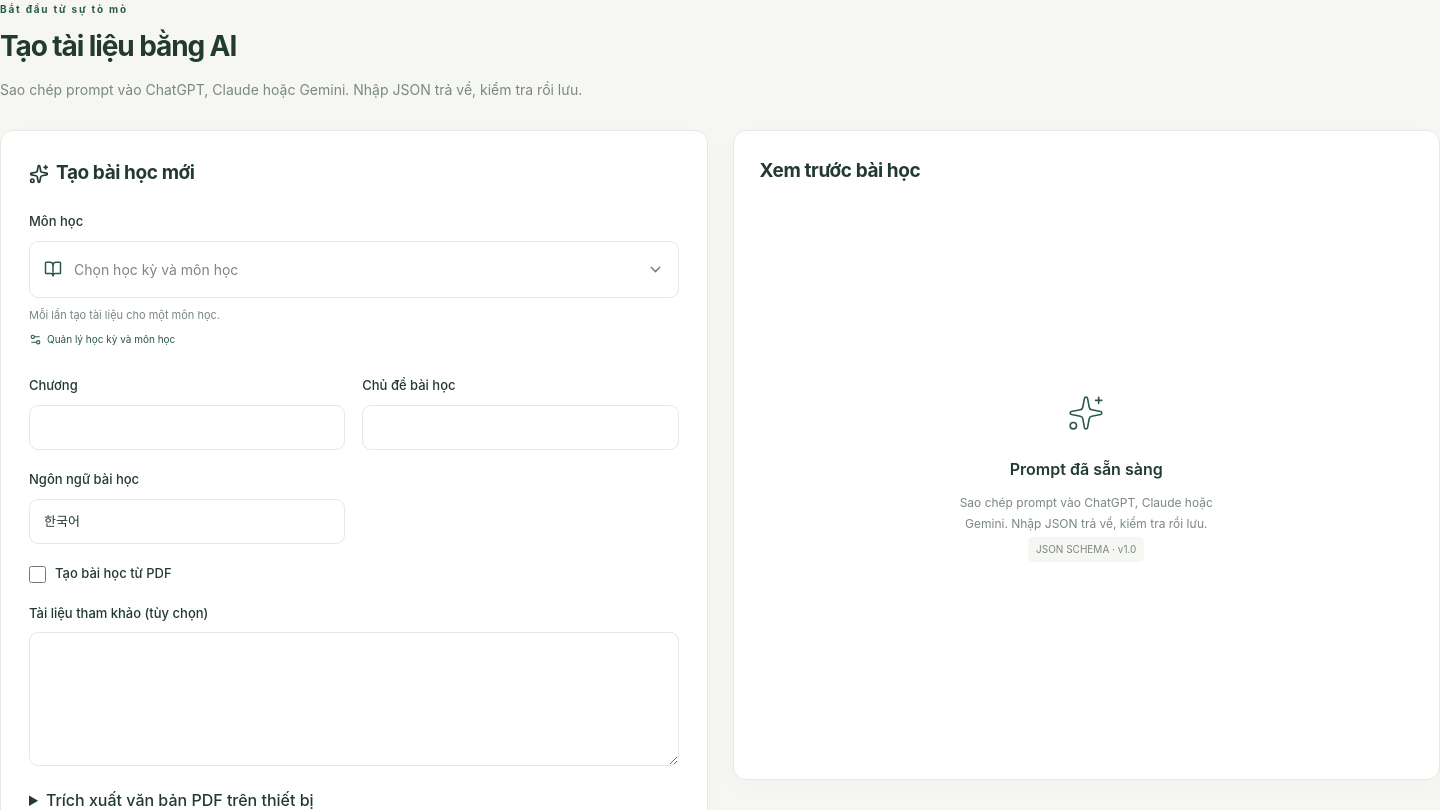
Scenario: keeps edits open after save failure and does not claim success
Click the button "Quản lý học kỳ và môn học". click: [102, 340]
box: [29,330,175,350]
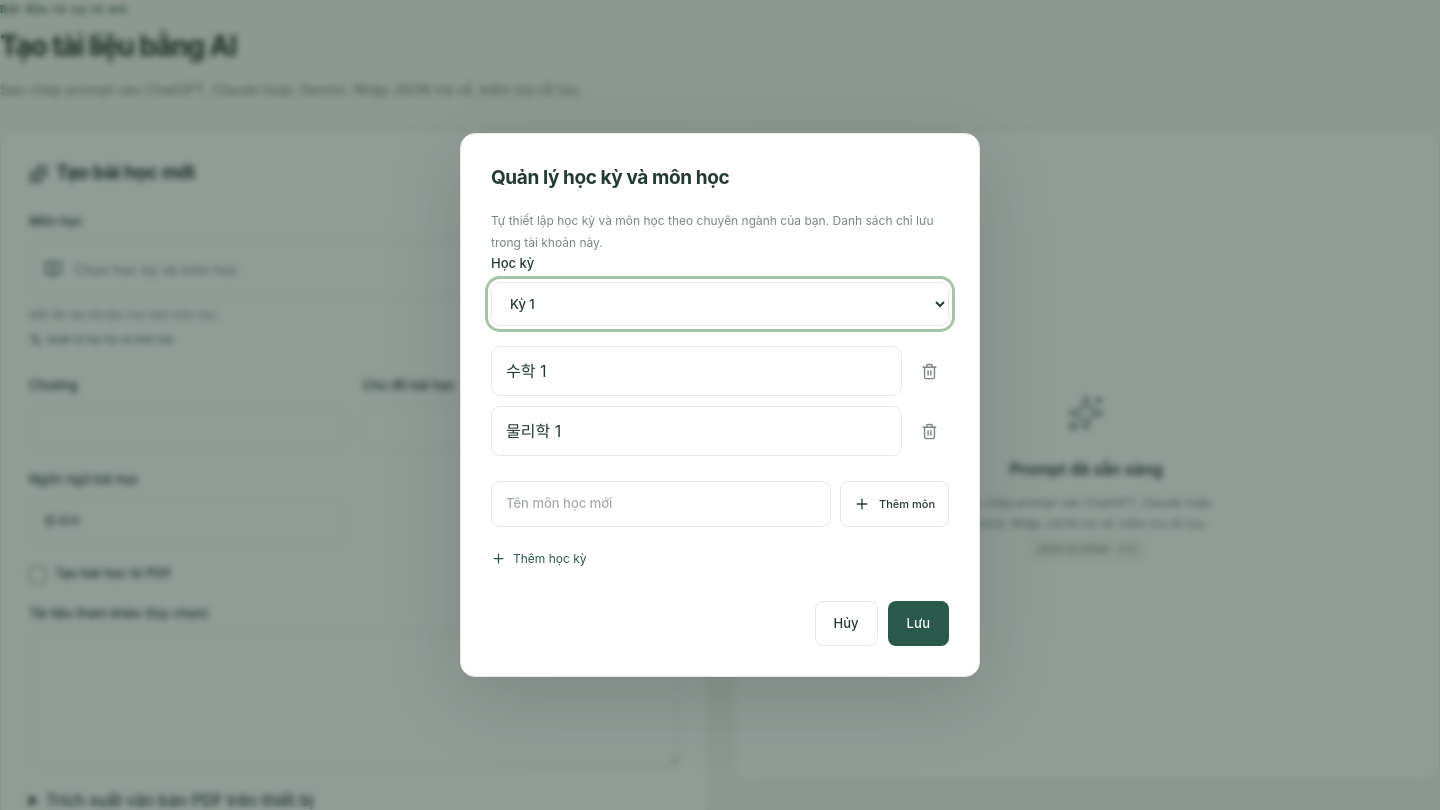
Click the button "Lưu". click: [918, 623]
box: [888,601,949,646]
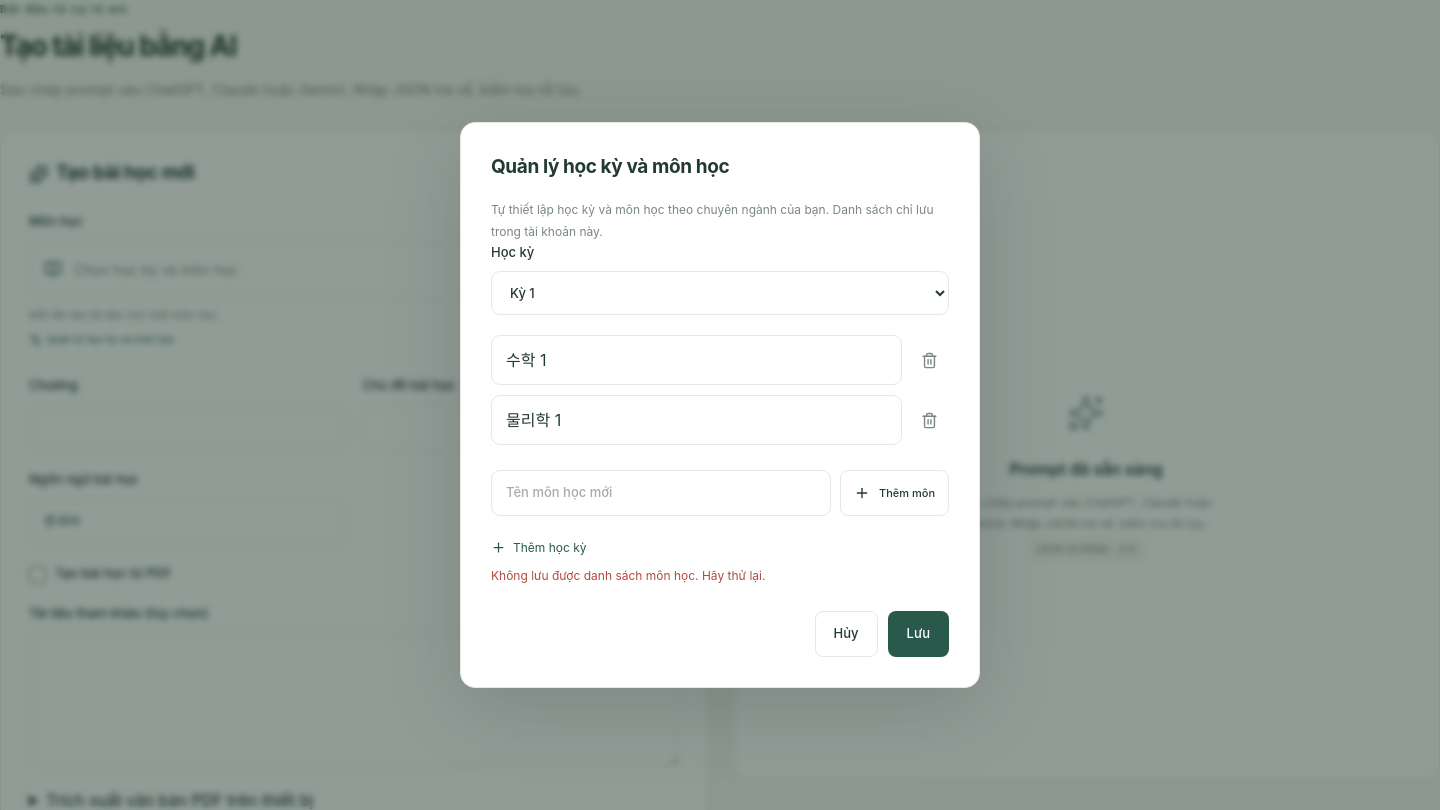
Check: the dialog is shown, box [460,122,980,688]
Check: the message shows "Không lưu được danh sách môn học", box [491,568,765,583]
